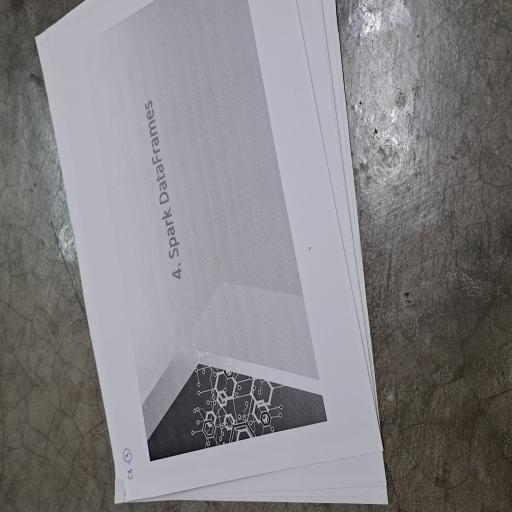paper: (6, 46, 383, 512)
